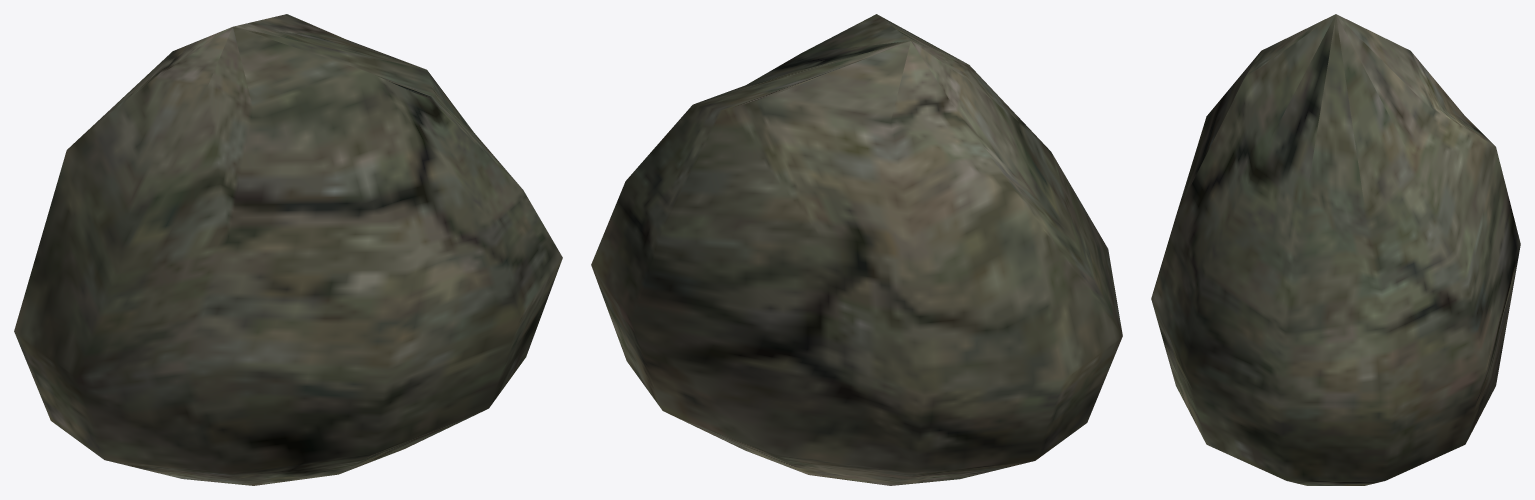
Rendered from boulder.glb.
3 renders of one model, left to right at view 1: azimuth 30°, elevation 25°; view 2: azimuth 150°, elevation 25°; view 3: azimuth 270°, elevation 25°, orthographic. The views are drawn at different scales.
Visible parts, largest first — view 1: Sphere; view 2: Sphere; view 3: Sphere.
Boxes of the visible parts, <box> form: Sphere: <box>14,14,562,485</box>; Sphere: <box>591,14,1122,485</box>; Sphere: <box>1151,14,1520,485</box>.
Size of the model in its own units: 3.47 by 2.92 by 2.48.
Materials: 1 (1 with a texture image).
